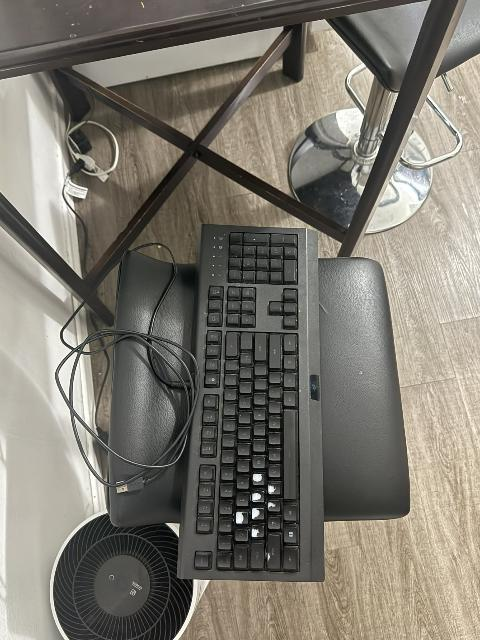ahkeyboard: (173, 203, 329, 588)
